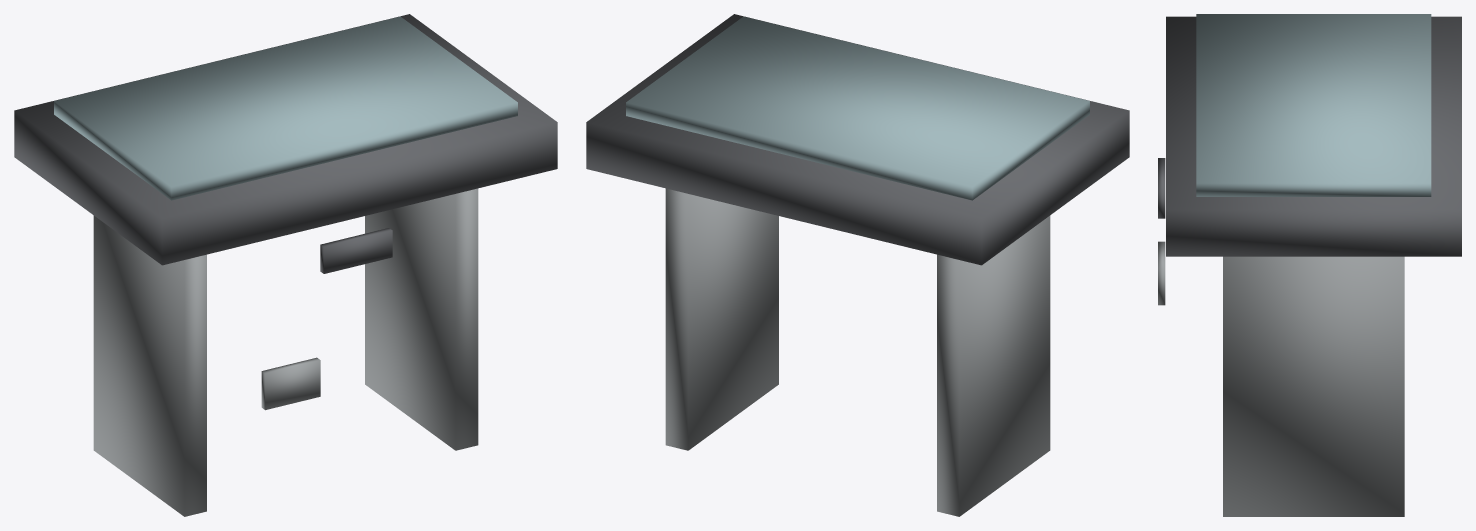
File: light_table__weathered.glb
The picture shows the model from 3 angles, left to right: view 1: azimuth 30°, elevation 25°; view 2: azimuth 150°, elevation 25°; view 3: azimuth 270°, elevation 25°; orthographic projection.
Parts seen in each view (by area): view 1: world; view 2: world; view 3: world.
Boxes of the visible parts, bbox=[...] form: world: bbox=[14, 14, 557, 516]; world: bbox=[586, 14, 1129, 516]; world: bbox=[1158, 14, 1461, 516].
Bounding box in the file's own units: 1.05 × 0.8786 × 0.698.
